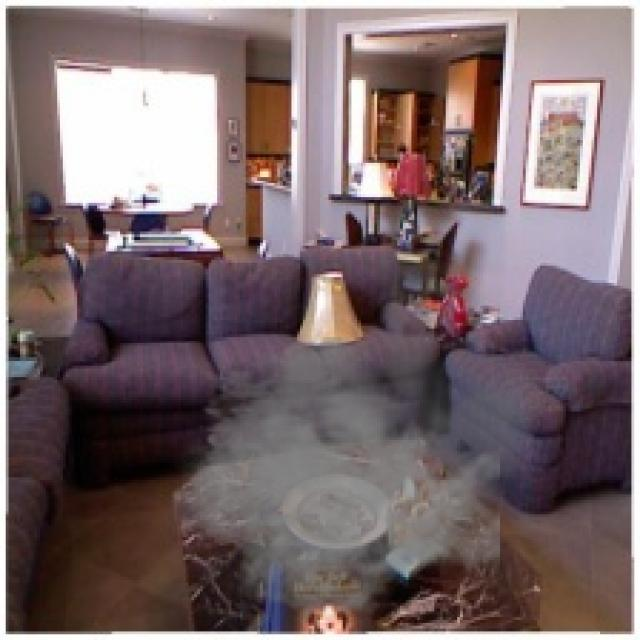smoke: (163, 234, 546, 626)
